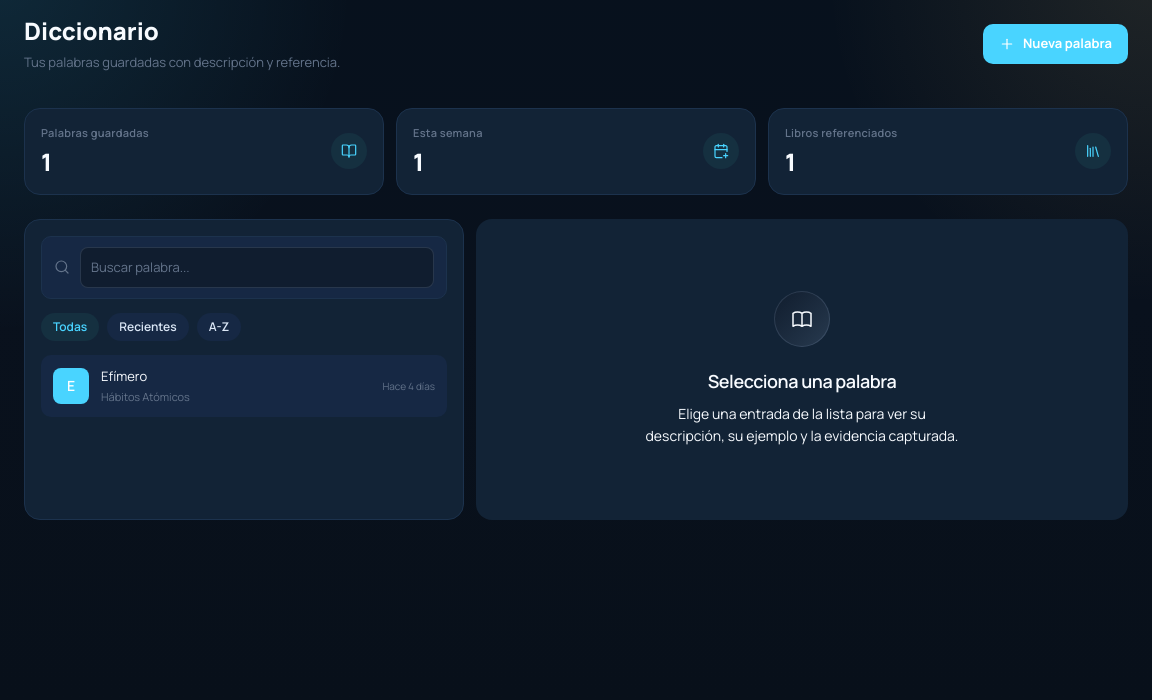
DictionaryView edit mode (4D) › keeps the captured evidence read-only inside edit mode (REQ-DRE-007 scenario 2)
The image size is (1152, 700).
Click the button with test id "dictionary-row" at (71, 386), box [41, 355, 447, 417]
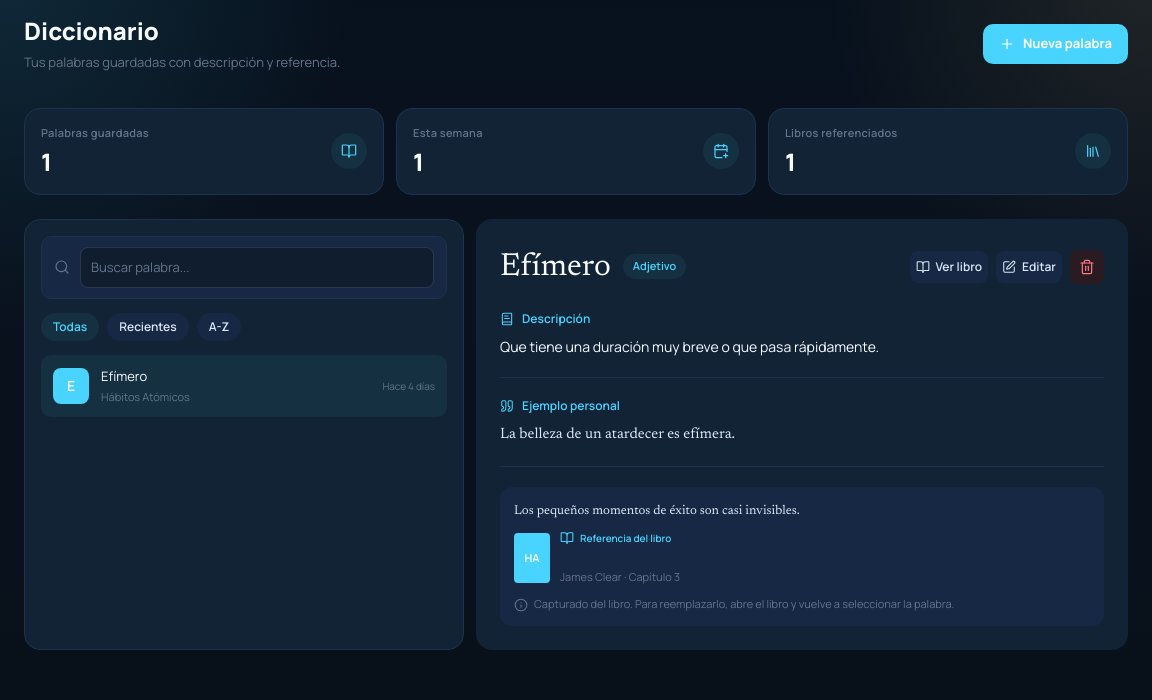
Click the button with test id "dictionary-detail-edit" at (1029, 266), box [996, 250, 1062, 282]
(page scrolled)
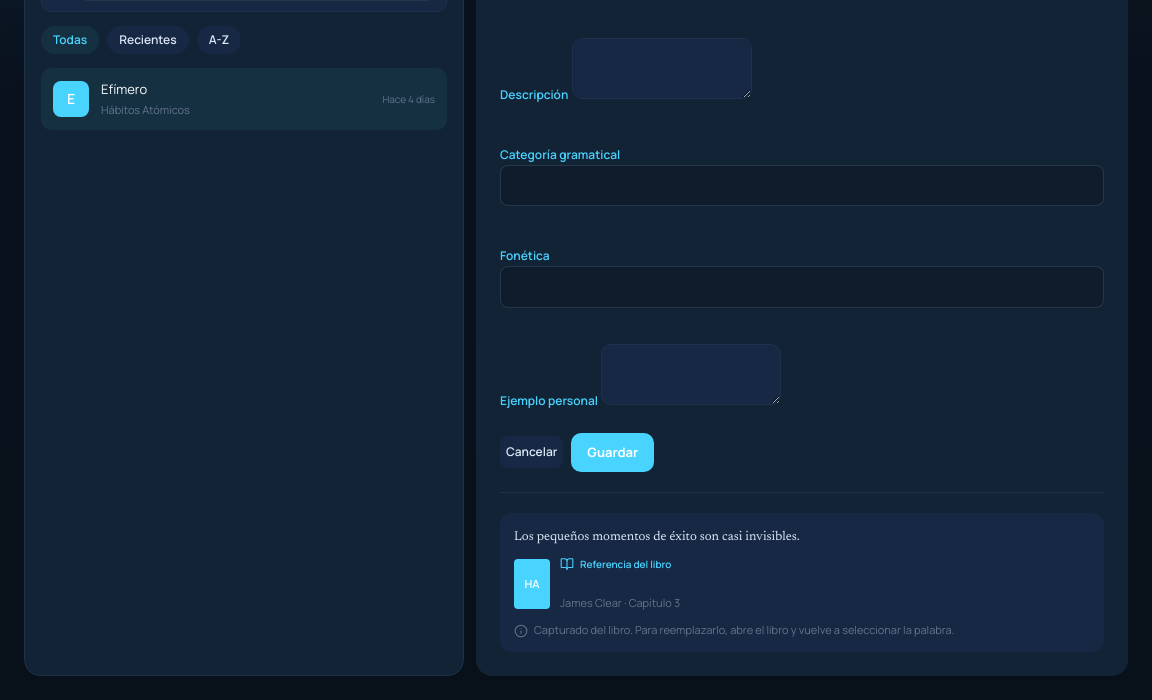
Check: the text with test id "dictionary-quote" reads "Los pequeños momentos de éxito son casi invisibles.", box [514, 530, 800, 543]
Check: the text with test id "dictionary-reference-author" reads "James Clear · Capítulo 3", box [560, 595, 680, 610]
Check: the element with test id "dictionary-detail-actions" is gone
